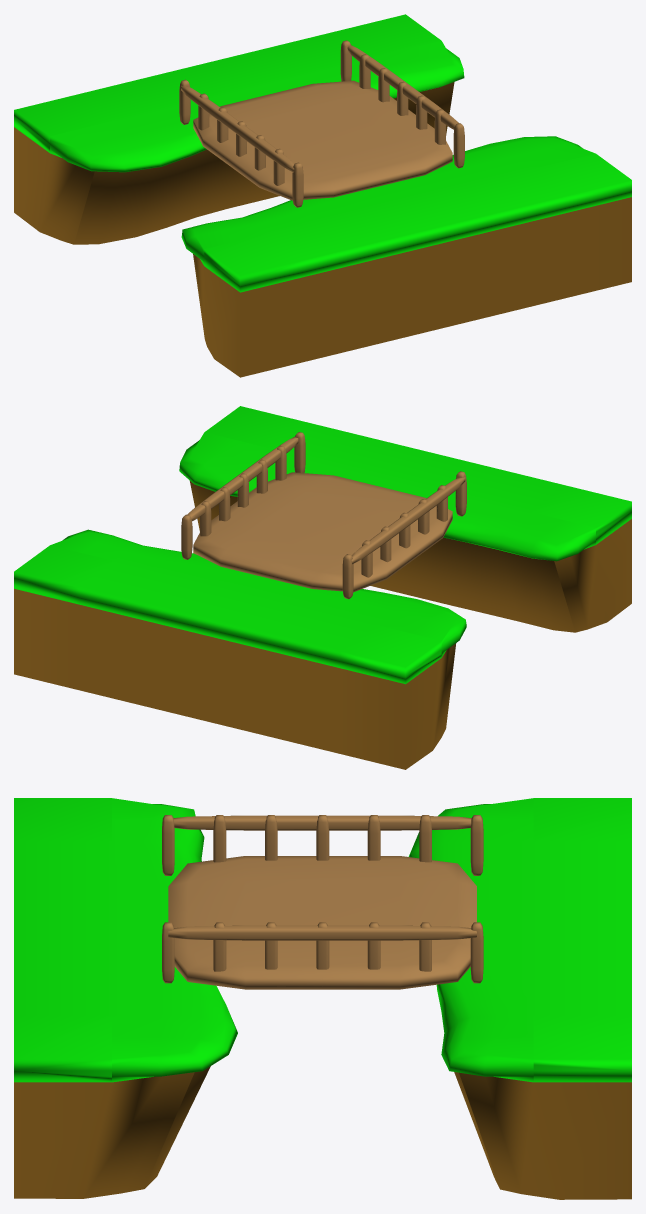
The model's file is bridge.fbx.
3 views of the same model, one above another, from view 1: azimuth 30°, elevation 25°; view 2: azimuth 150°, elevation 25°; view 3: azimuth 270°, elevation 25° (orthographic). The views are drawn at different scales.
Visible parts, largest first — view 1: pCube10; view 2: pCube10; view 3: pCube10.
Part boxes in pixels (x1=…): pCube10: x1=14, y1=14, x2=631, y2=377; pCube10: x1=14, y1=406, x2=631, y2=769; pCube10: x1=14, y1=798, x2=631, y2=1199.
Bounding box in the file's own units: 24.09 × 8.5 × 24.02.
